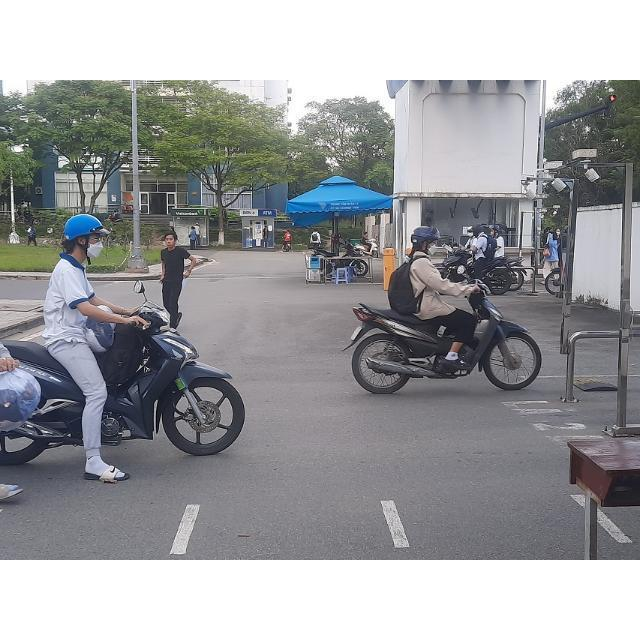Helmet: (62, 216, 108, 260), (412, 226, 442, 254)
